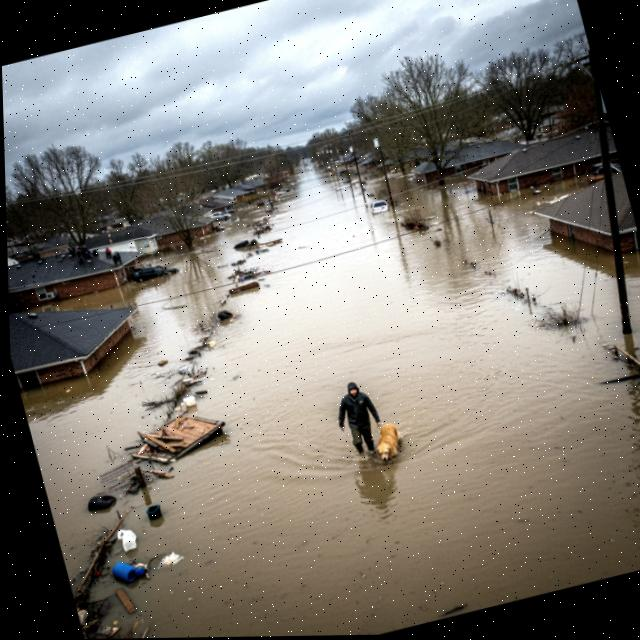civilian: (319, 366, 397, 469)
dog: (366, 417, 412, 469)
